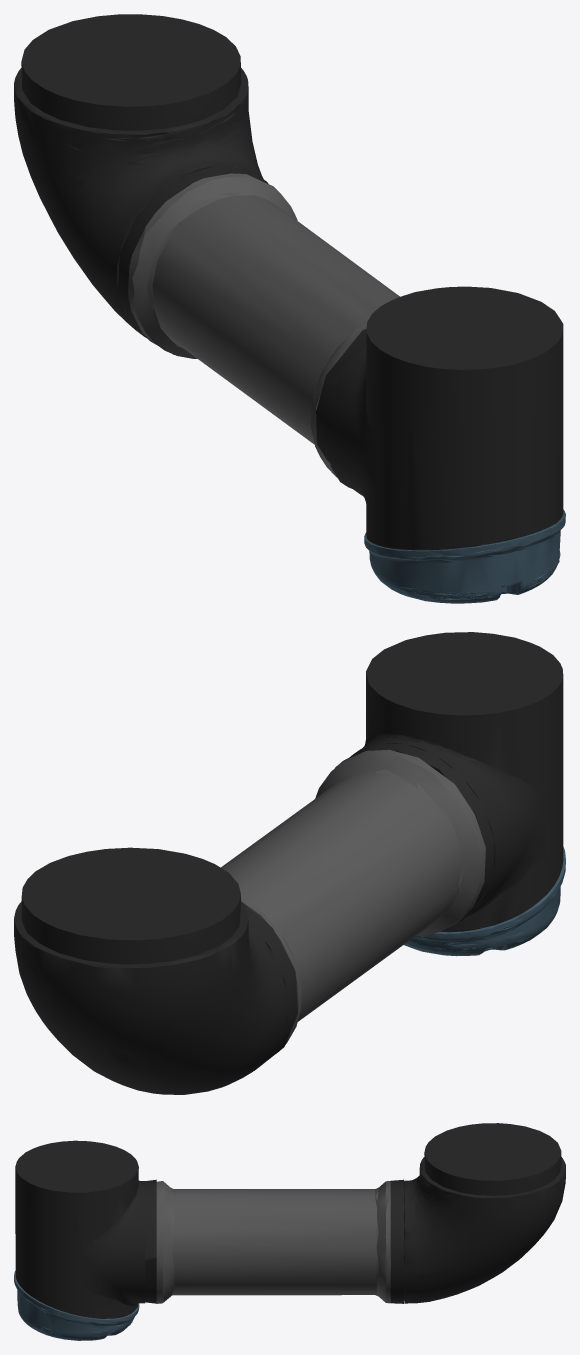
File: forearm.obj
3 renders of one model, top to bottom at view 1: azimuth 30°, elevation 25°; view 2: azimuth 150°, elevation 25°; view 3: azimuth 270°, elevation 25°, orthographic. The views are drawn at different scales.
Visible parts, largest first — view 1: node2_Part__Feature025, node0_Part__Feature019, node1_Part__Feature023, node5_Part__Feature032, node3_Part__Feature024, node4_Part__Feature026; view 2: node0_Part__Feature019, node1_Part__Feature023, node2_Part__Feature025, node5_Part__Feature032, node4_Part__Feature026, node3_Part__Feature024; view 3: node1_Part__Feature023, node0_Part__Feature019, node2_Part__Feature025, node5_Part__Feature032, node3_Part__Feature024, node4_Part__Feature026.
Part boxes in pixels (x1=…): node2_Part__Feature025: x1=324, y1=286, x2=563, y2=550; node0_Part__Feature019: x1=14, y1=14, x2=263, y2=337; node1_Part__Feature023: x1=128, y1=173, x2=399, y2=477; node5_Part__Feature032: x1=364, y1=509, x2=565, y2=603; node3_Part__Feature024: x1=117, y1=164, x2=268, y2=354; node4_Part__Feature026: x1=316, y1=329, x2=366, y2=488; node0_Part__Feature019: x1=14, y1=847, x2=287, y2=1094; node1_Part__Feature023: x1=221, y1=749, x2=485, y2=1052; node2_Part__Feature025: x1=349, y1=632, x2=563, y2=932; node5_Part__Feature032: x1=404, y1=847, x2=565, y2=956; node4_Part__Feature026: x1=335, y1=743, x2=494, y2=921; node3_Part__Feature024: x1=241, y1=901, x2=297, y2=1070; node1_Part__Feature023: x1=156, y1=1181, x2=390, y2=1303; node0_Part__Feature019: x1=404, y1=1123, x2=565, y2=1303; node2_Part__Feature025: x1=15, y1=1140, x2=145, y2=1318; node5_Part__Feature032: x1=14, y1=1270, x2=139, y2=1340; node3_Part__Feature024: x1=390, y1=1179, x2=403, y2=1303; node4_Part__Feature026: x1=145, y1=1179, x2=156, y2=1303.
Size of the model in its own units: 0.075 by 0.0971 by 0.2828.
